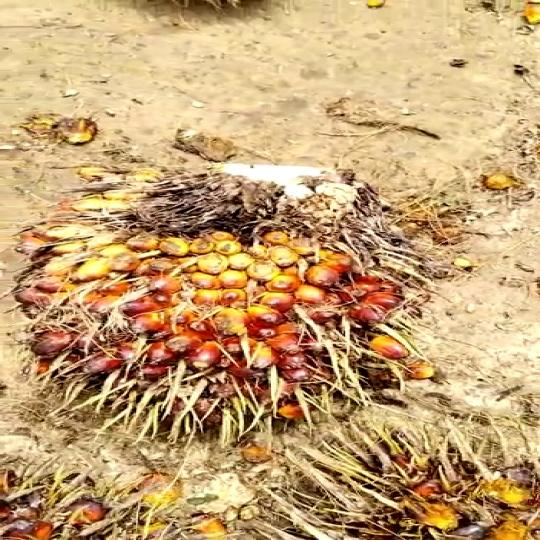masak: (15, 138, 446, 446)
